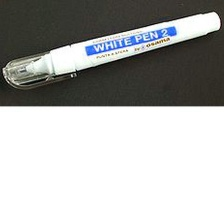correction_fluid: (0, 8, 222, 91)
